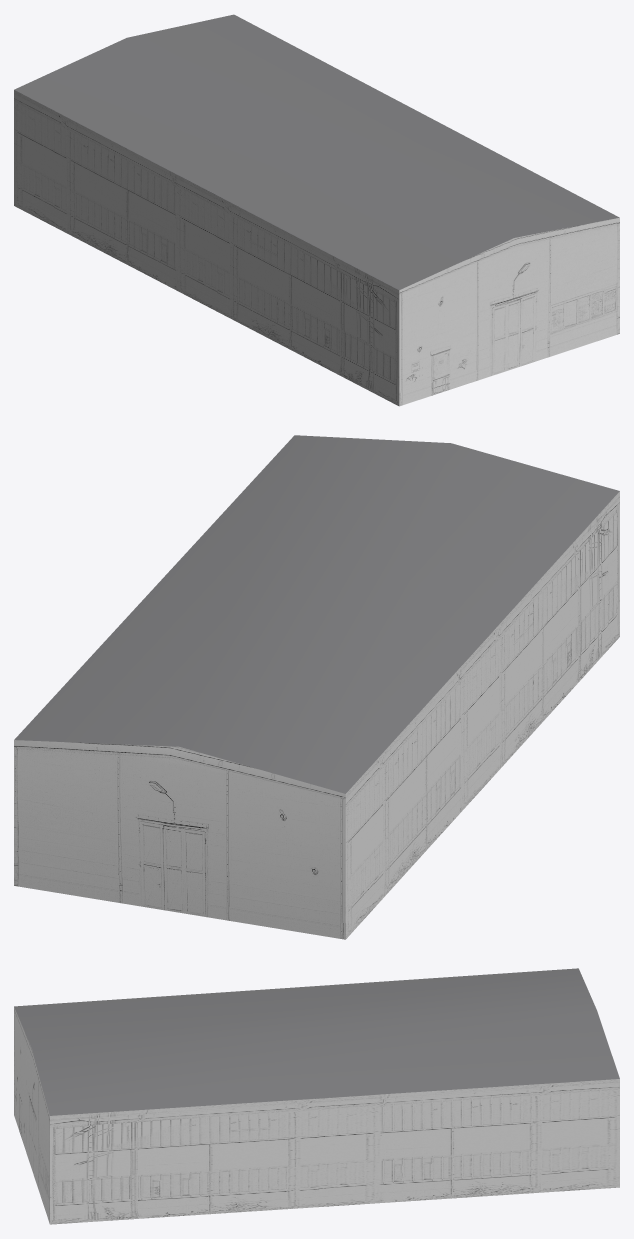
The model's file is VVT-Halle.gltf.
3 renders of one model, top to bottom at view 1: azimuth 30°, elevation 25°; view 2: azimuth 150°, elevation 25°; view 3: azimuth 270°, elevation 25°, orthographic. The views are drawn at different scales.
Visible parts, largest first — view 1: Dach.1; view 2: Dach.1; view 3: Dach.1.
Boxes of the visible parts, x1,y1,x2,y2 form: Dach.1: (14,14,619,406); Dach.1: (14,435,619,939); Dach.1: (14,968,619,1224).
Bounding box in the file's own units: 27.39 × 10.6 × 47.52.
5 materials, 4 textured.
